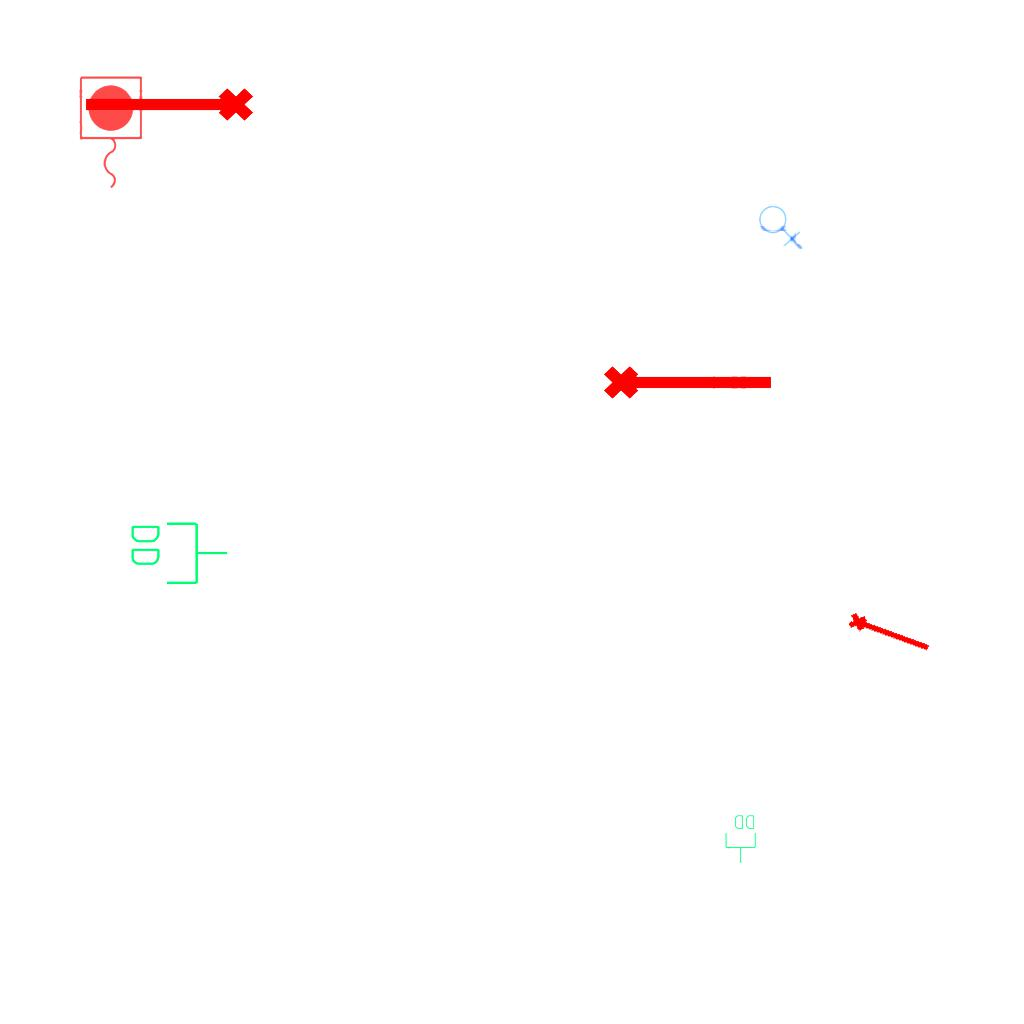ASR_Ansaugoeffnung: (601, 357, 777, 403), (80, 84, 256, 130), (844, 606, 936, 659)
Datenanschluss_zweifach: (127, 518, 230, 587), (724, 813, 758, 864)
Elektroanschluss_allgemein_230V_Geraeteanschlussdose_230V: (758, 201, 805, 250)
Zugtaster: (74, 72, 146, 194)
